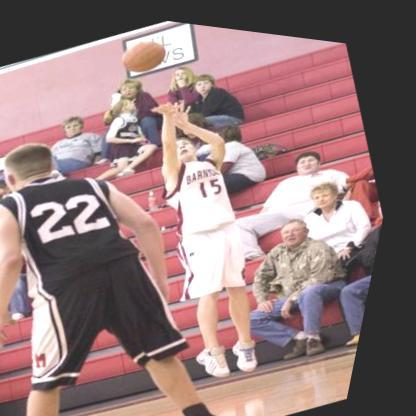basketball: (113, 26, 175, 77)
